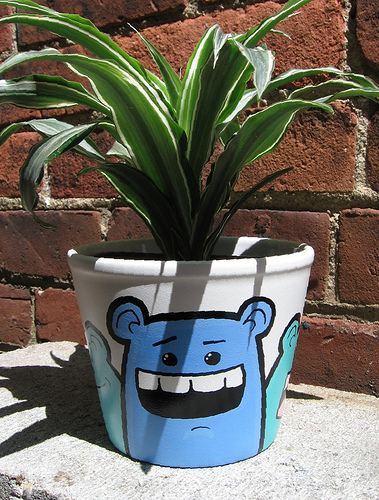tire: (68, 240, 315, 467)
